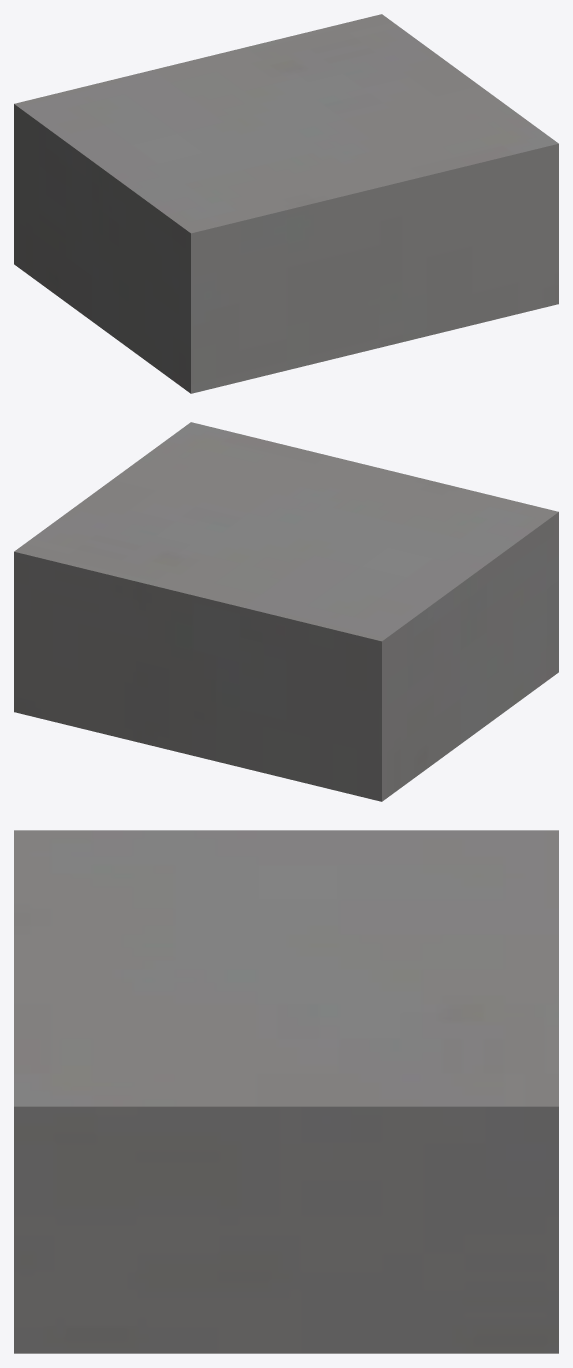
The model's file is frame__rear_gusset_0.glb.
3 views of the same model, one above another, from view 1: azimuth 30°, elevation 25°; view 2: azimuth 150°, elevation 25°; view 3: azimuth 270°, elevation 25° (orthographic). The views are drawn at different scales.
Visible parts, largest first — view 1: world; view 2: world; view 3: world.
Boxes of the visible parts, bbox=[...] form: world: bbox=[14, 14, 558, 393]; world: bbox=[14, 422, 558, 801]; world: bbox=[14, 830, 558, 1353].
Bounding box in the file's own units: 0.12 × 0.05 × 0.1.
1 material, 1 textured.
